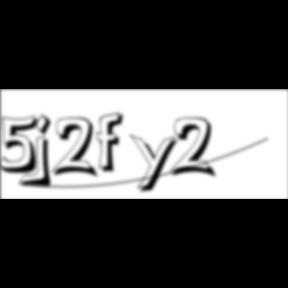2: (52, 117, 102, 181), (171, 117, 221, 181)
5: (0, 114, 44, 176)
f: (96, 111, 130, 175)
j: (32, 113, 58, 191)
y: (130, 132, 184, 196)
